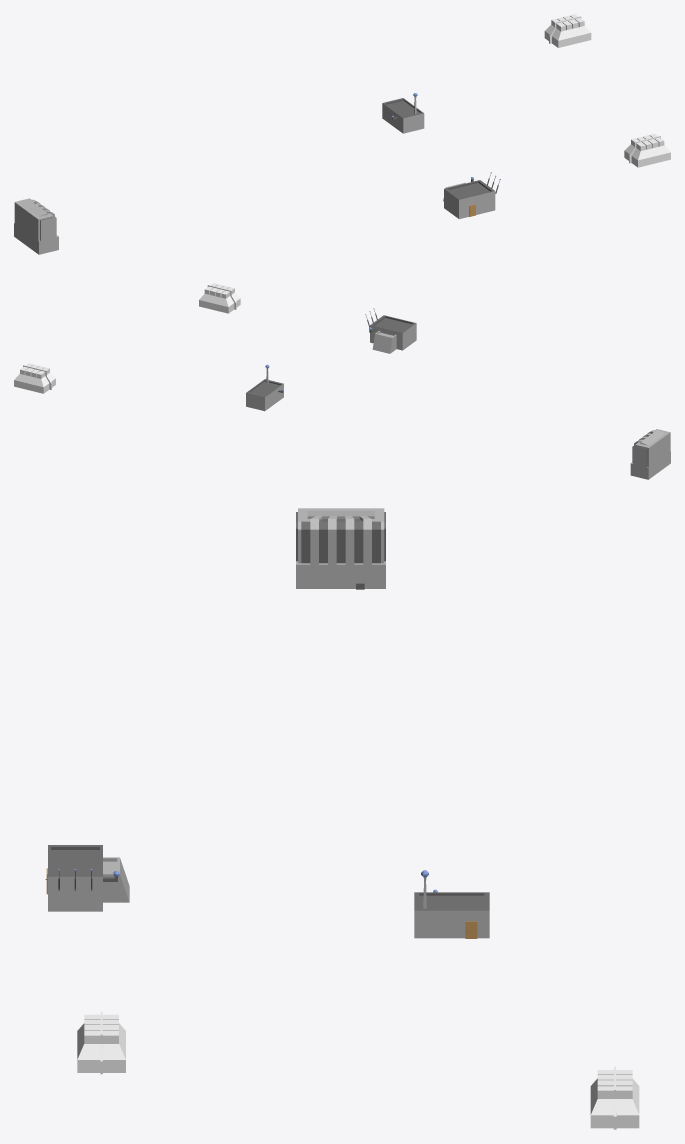
File: substation.glb
The picture shows the model from 3 angles, top to bottom: view 1: azimuth 30°, elevation 25°; view 2: azimuth 150°, elevation 25°; view 3: azimuth 270°, elevation 25°; orthographic projection. The views are drawn at different scales.
Parts seen in each view (by area): view 1: Подстанции; view 2: Подстанции; view 3: Подстанции.
Part boxes in pixels (x1=…): Подстанции: x1=14, y1=14, x2=670, y2=254; Подстанции: x1=14, y1=283, x2=670, y2=479; Подстанции: x1=45, y1=508, x2=639, y2=1129.
Bounding box in the file's own units: 137 × 7.48 × 61.36.
